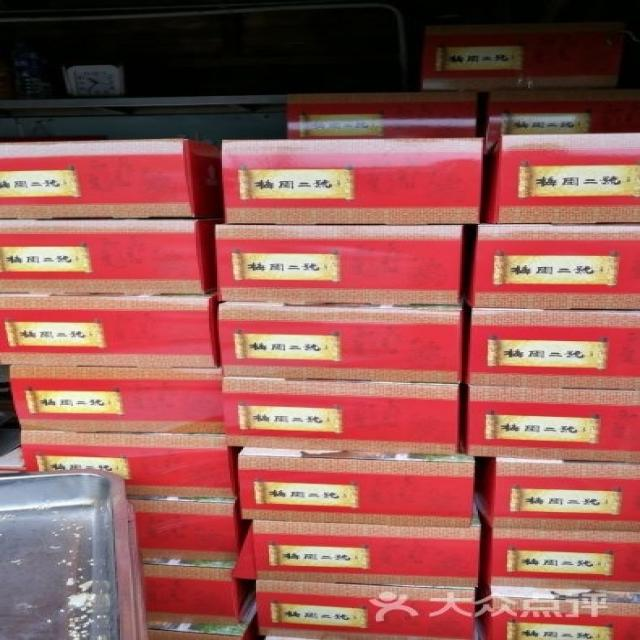box: (224, 136, 483, 224), (217, 301, 465, 383), (233, 506, 481, 587), (215, 225, 463, 304), (237, 447, 476, 528), (224, 377, 462, 455), (0, 138, 222, 219), (0, 218, 220, 293), (463, 222, 640, 311), (21, 432, 241, 498), (8, 366, 224, 433), (480, 133, 640, 223), (467, 307, 640, 390), (460, 385, 640, 464), (421, 22, 625, 91), (254, 579, 476, 640), (475, 457, 640, 532), (478, 528, 640, 592), (484, 87, 640, 149), (287, 91, 476, 139), (478, 586, 640, 640), (131, 498, 250, 562), (143, 559, 256, 624), (146, 600, 259, 640), (0, 445, 23, 475)
